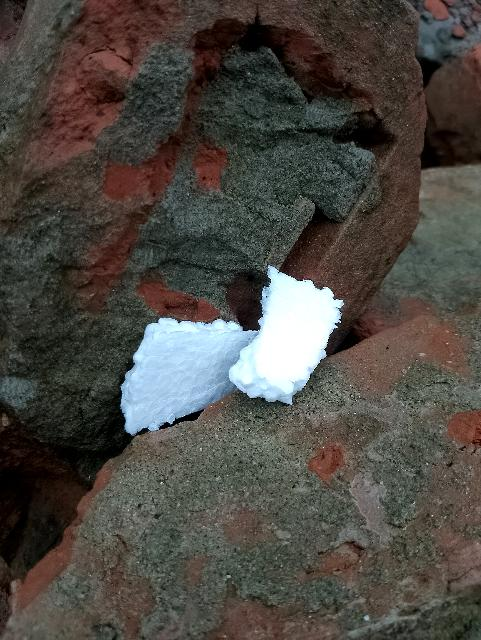cocksheet: (86, 288, 273, 436), (219, 252, 364, 422)
